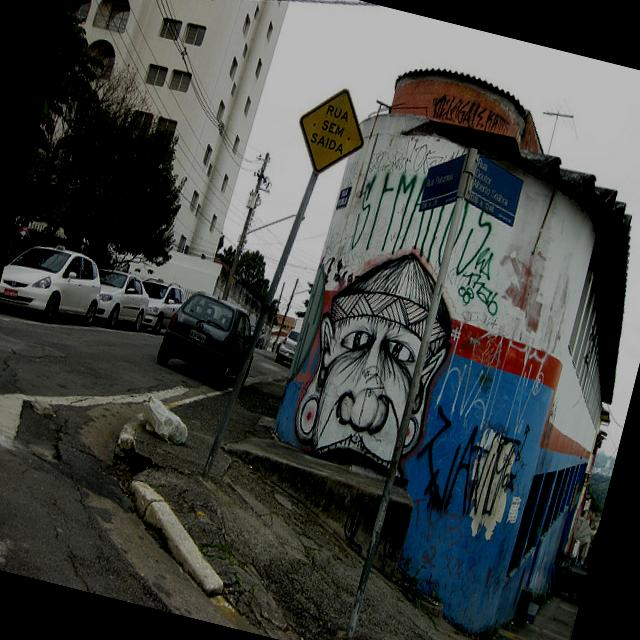Vehicle: (152, 282, 260, 396), (0, 235, 108, 335), (84, 266, 156, 336), (130, 274, 188, 338), (546, 550, 590, 603), (274, 324, 300, 366), (244, 323, 267, 350)
